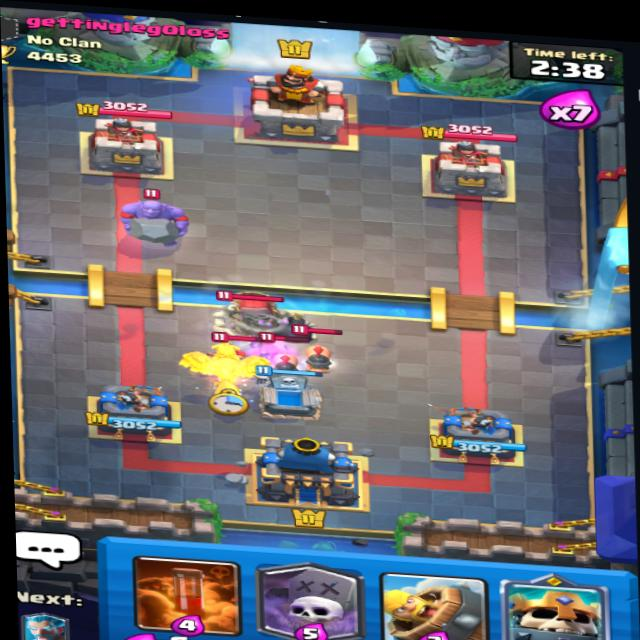bowler: (113, 189, 191, 254)
giant-skeleton: (201, 286, 314, 348)
royal-hogs: (295, 330, 343, 376), (266, 332, 304, 378)
